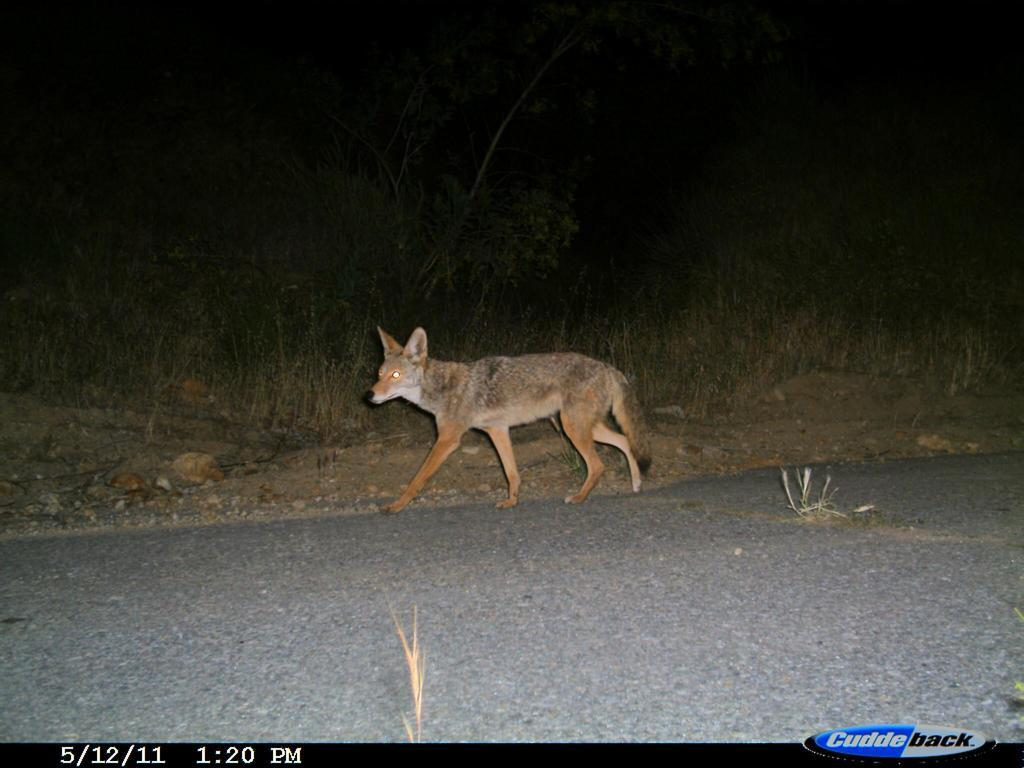coyote: (360, 322, 656, 521)
